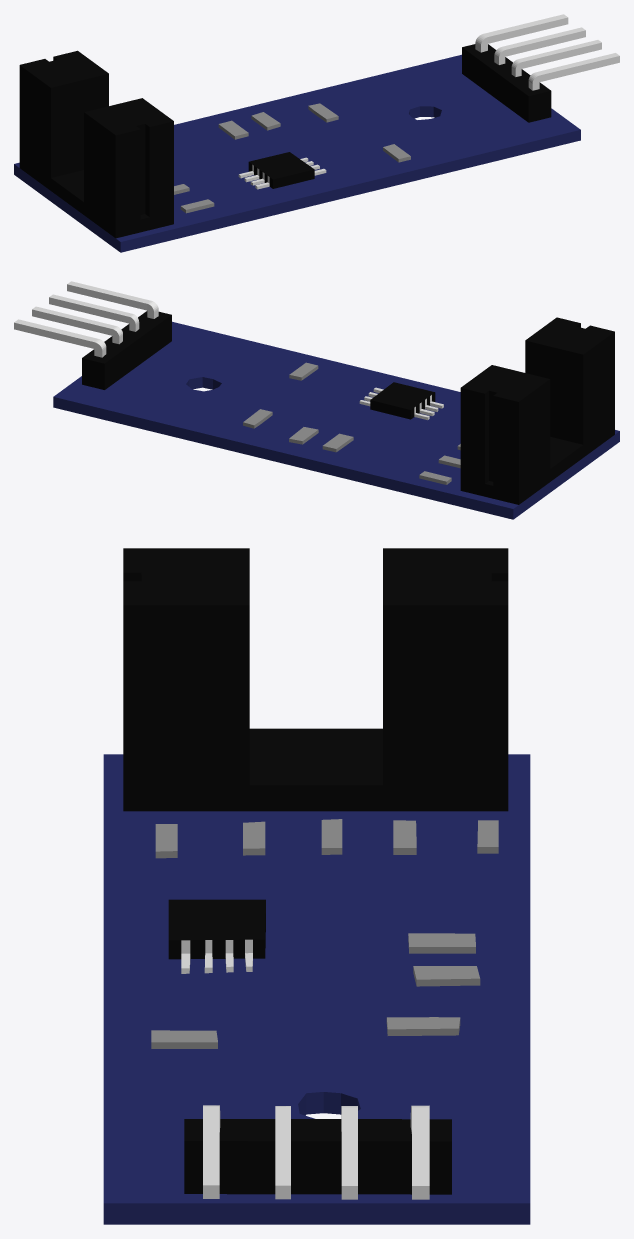
The model's file is ir_decoder.fbx.
The picture shows the model from 3 angles, top to bottom: view 1: azimuth 30°, elevation 25°; view 2: azimuth 150°, elevation 25°; view 3: azimuth 270°, elevation 25°; orthographic projection. The views are drawn at different scales.
Parts seen in each view (by area): view 1: Cube; view 2: Cube; view 3: Cube.
Part boxes in pixels (x1,y1,x2,y2): Cube: [14, 14, 619, 252]; Cube: [14, 281, 619, 519]; Cube: [103, 548, 530, 1224].
Size of the model in its own units: 89.87 by 18.62 by 31.65.
